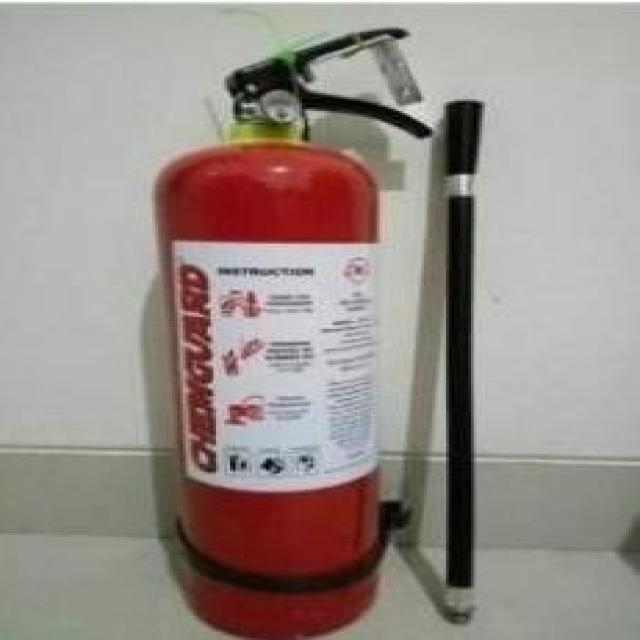fire_extinguisher: (151, 16, 428, 638)
